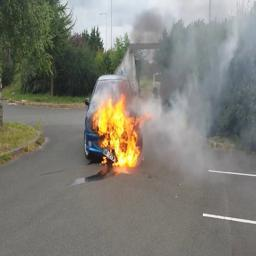fire: (93, 93, 150, 167)
